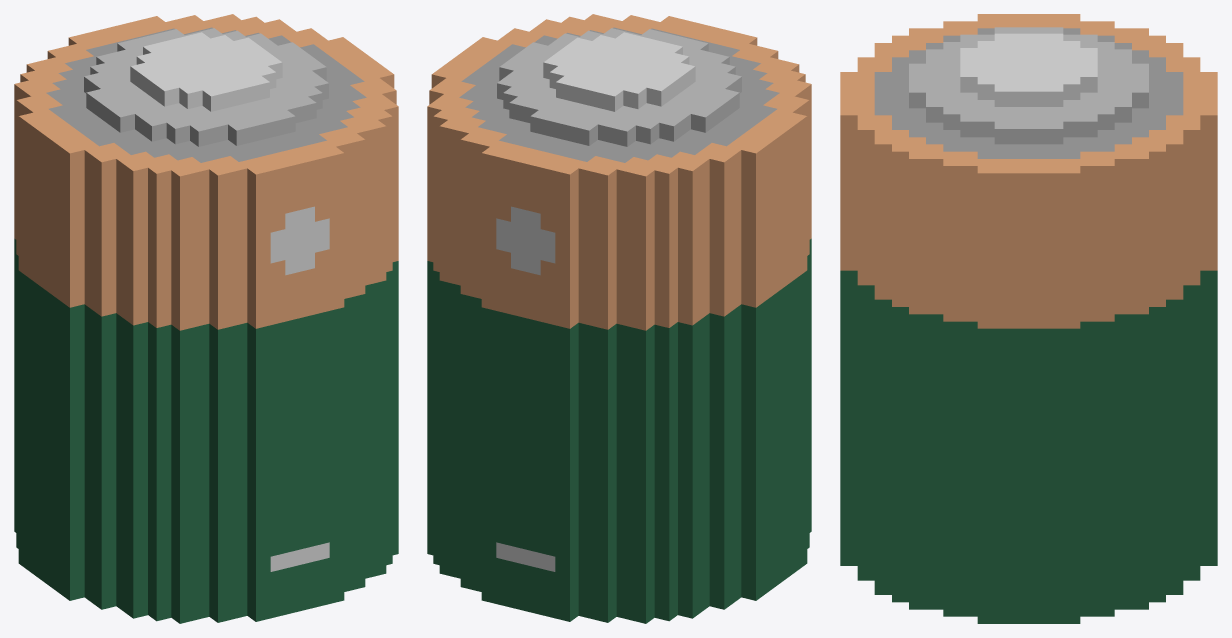
Rendered from battery_3_1.2g.obj.
3 views of the same model, side by side, from view 1: azimuth 30°, elevation 25°; view 2: azimuth 150°, elevation 25°; view 3: azimuth 270°, elevation 25° (orthographic).
Size of the model in its own units: 2.2 by 3.1 by 2.2.
Materials: 1 (1 with a texture image).
